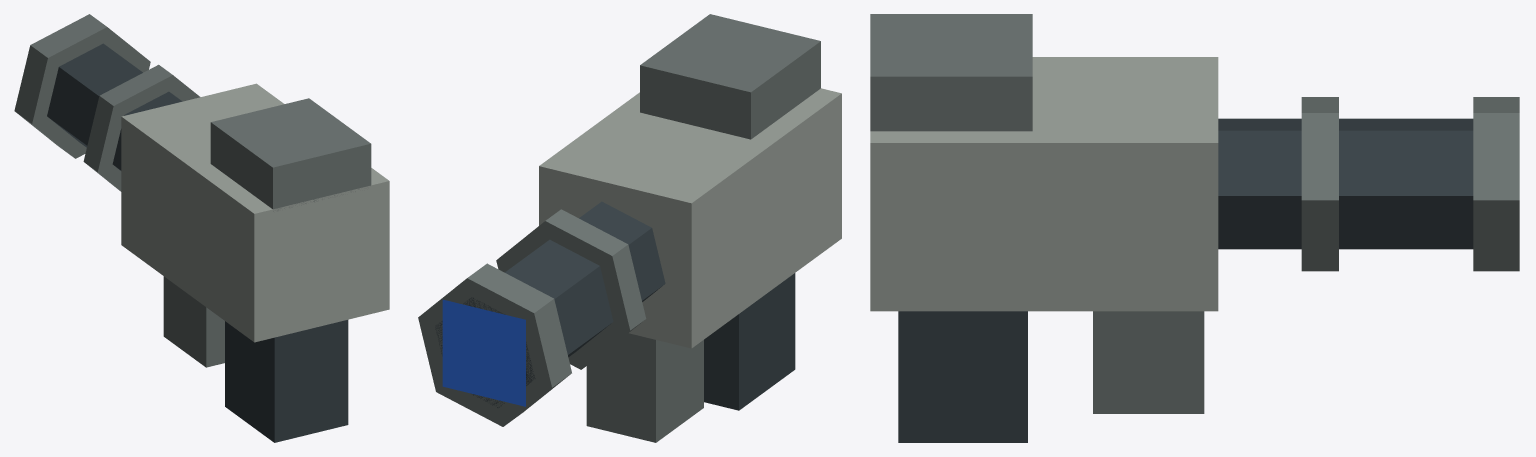
3 views of the same model, side by side, from view 1: azimuth 30°, elevation 25°; view 2: azimuth 150°, elevation 25°; view 3: azimuth 270°, elevation 25° (orthographic). The views are drawn at different scales.
Parts seen in each view (by area): view 1: mount; view 2: mount; view 3: mount.
Boxes of the visible parts, <box> form: mount: <box>14,14,389,442</box>; mount: <box>418,14,841,442</box>; mount: <box>870,14,1519,442</box>.
Bounding box in the file's own units: 3.52 × 7.12 × 11.23.
